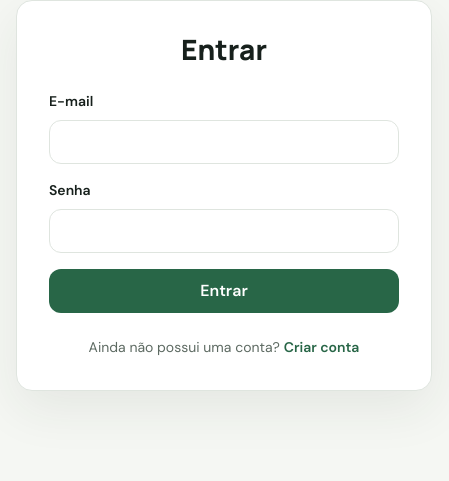
Test: LoginPage — envio › exibe erro de credenciais e permanece no login permitindo nova tentativa
Type "john@example.com" into the field labelled "E-mail" at (224, 142), box [49,120,399,164]
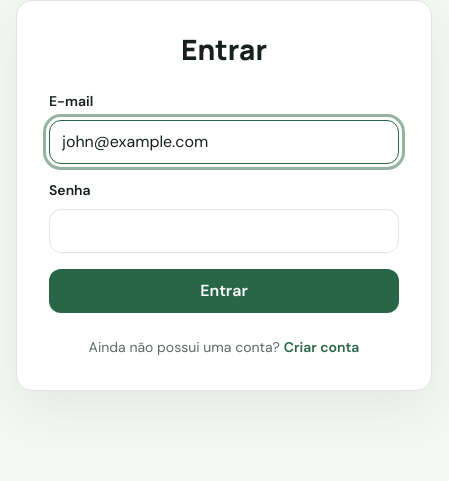
Type "12345678" into the password field labelled "Senha" at (224, 231), box [49,209,399,253]
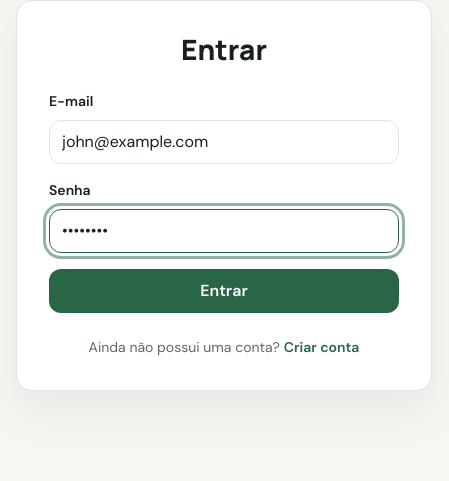
Click the button "Entrar" at (224, 291), box [49,269,399,313]
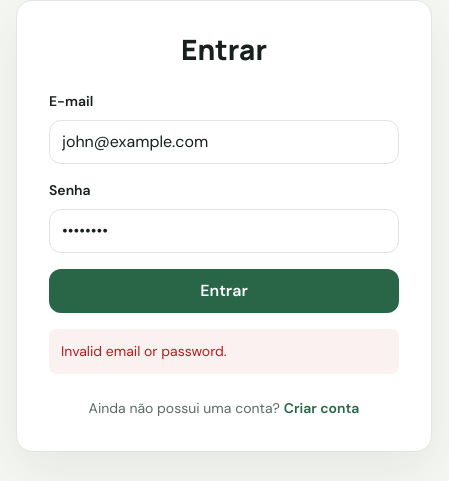
Expected: the heading "Entrar" is shown, [181,30,267,68]
Result: the text "Invalid email or password." is shown at [49,329,399,374]
